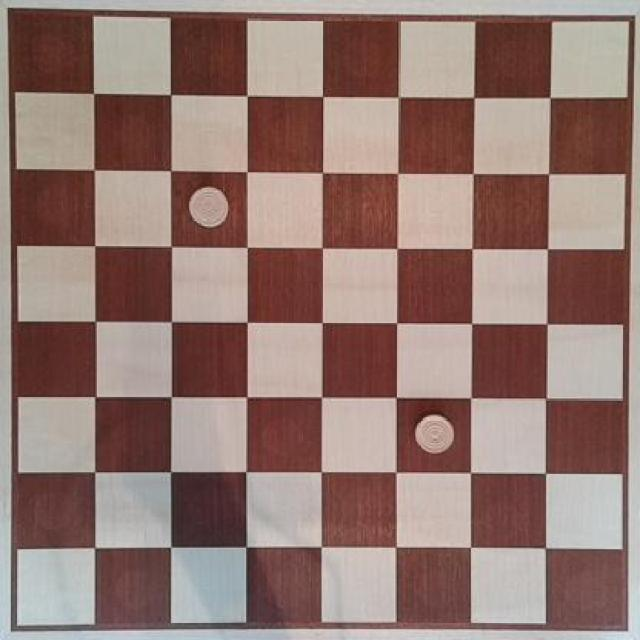BOARD: (10, 10, 628, 632)
white: (402, 400, 460, 465), (177, 175, 231, 232)
